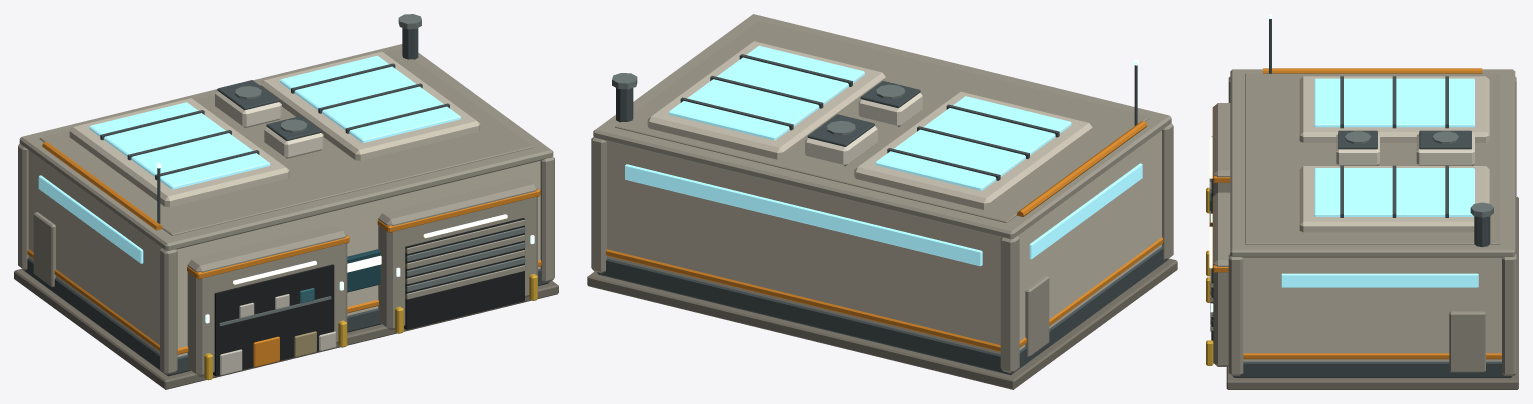
File: fh_warehouse.glb
The picture shows the model from 3 angles, left to right: view 1: azimuth 30°, elevation 25°; view 2: azimuth 150°, elevation 25°; view 3: azimuth 270°, elevation 25°; orthographic projection. The views are drawn at different scales.
Parts seen in each view (by area): view 1: fh_warehouse; view 2: fh_warehouse; view 3: fh_warehouse.
Boxes of the visible parts, x1,y1,x2,y2 form: fh_warehouse: (14, 14, 558, 389); fh_warehouse: (587, 14, 1177, 389); fh_warehouse: (1206, 14, 1518, 389).
Size of the model in its own units: 6 by 3 by 4.28.
